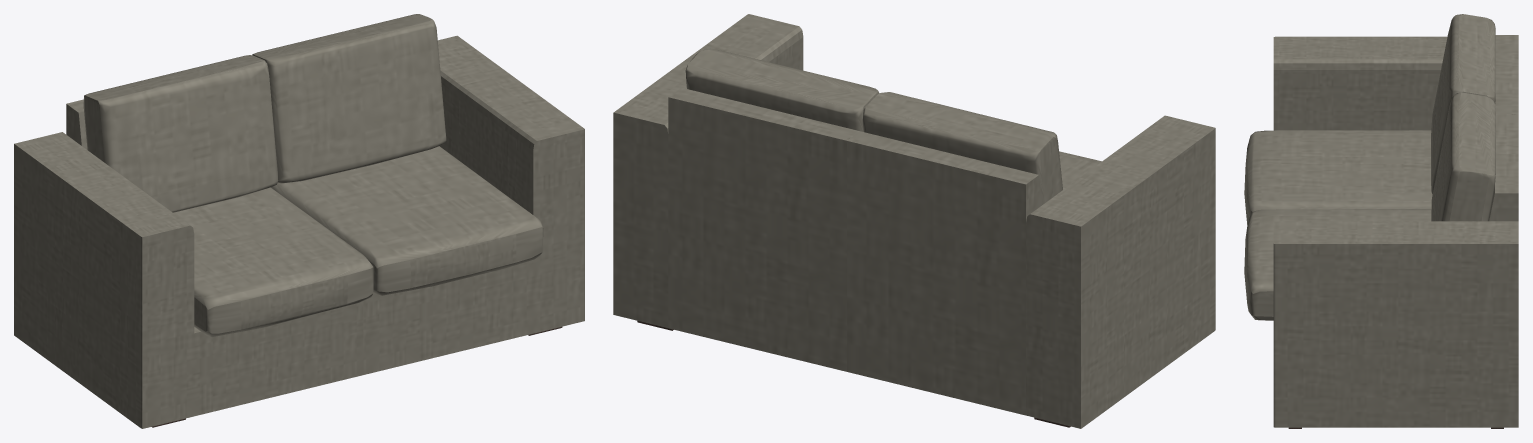
File: sofa.glb
The picture shows the model from 3 angles, left to right: view 1: azimuth 30°, elevation 25°; view 2: azimuth 150°, elevation 25°; view 3: azimuth 270°, elevation 25°; orthographic projection. The views are drawn at different scales.
Visible parts, largest first — view 1: Sofá.Base, Encosto2, Assento2, Encosto1, Assrnto1; view 2: Sofá.Base, Encosto1, Encosto2, Assrnto1; view 3: Sofá.Base, Assrnto1, Encosto2, Encosto1, Assento2.
Part boxes in pixels (<box>): Sofá.Base: <box>14,35,584,428</box>; Encosto2: <box>252,14,446,183</box>; Assento2: <box>271,146,543,295</box>; Encosto1: <box>83,55,278,212</box>; Assrnto1: <box>173,187,373,337</box>; Sofá.Base: <box>613,14,1215,428</box>; Encosto1: <box>862,92,1062,204</box>; Encosto2: <box>685,48,878,131</box>; Assrnto1: <box>1059,151,1101,189</box>; Sofá.Base: <box>1273,35,1518,427</box>; Assrnto1: <box>1244,130,1432,225</box>; Encosto2: <box>1431,92,1495,221</box>; Encosto1: <box>1431,14,1495,194</box>; Assento2: <box>1244,209,1431,320</box>.
Size of the model in its own units: 1.8 by 0.9782 by 1.01.
2 materials, 2 textured.
